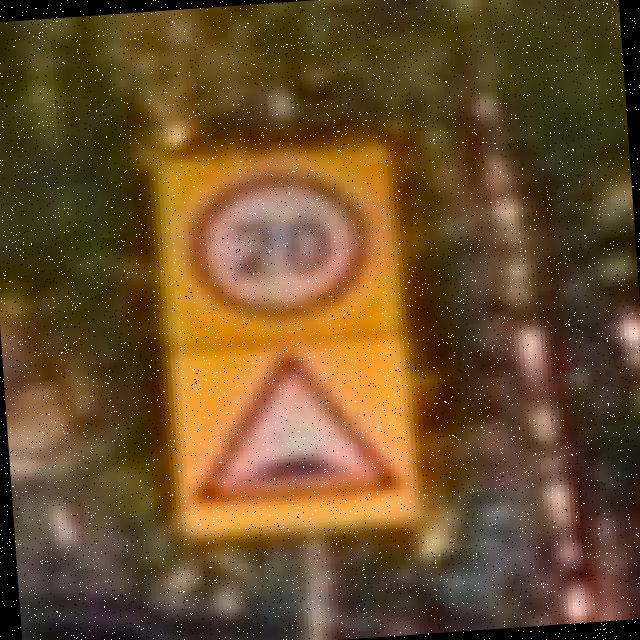Ograniczenie predkosci do 20: (184, 163, 384, 329)
